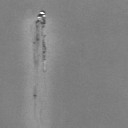slag inclusion: (32, 9, 48, 64), (32, 93, 38, 98)
